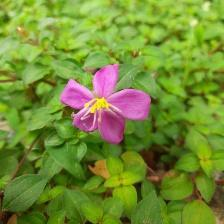malabar melastome: (61, 62, 154, 149)
